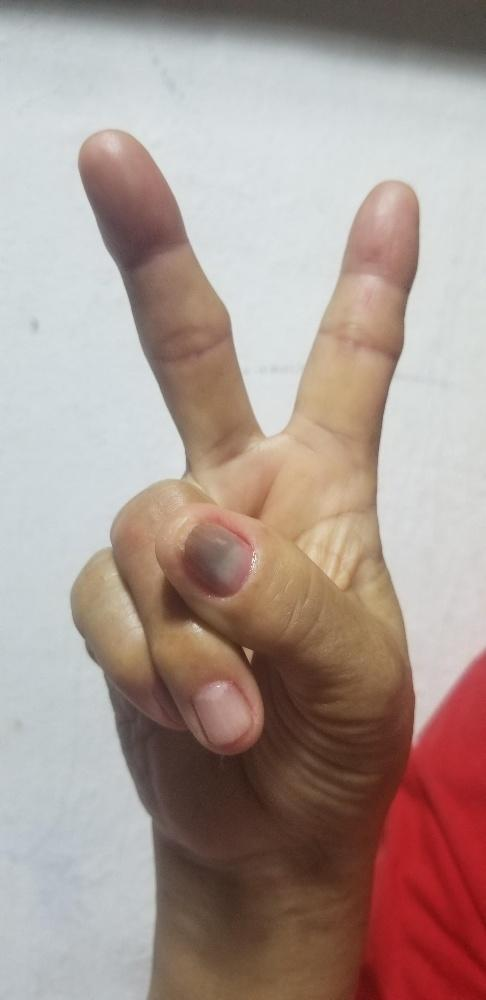v: (66, 127, 420, 814)
